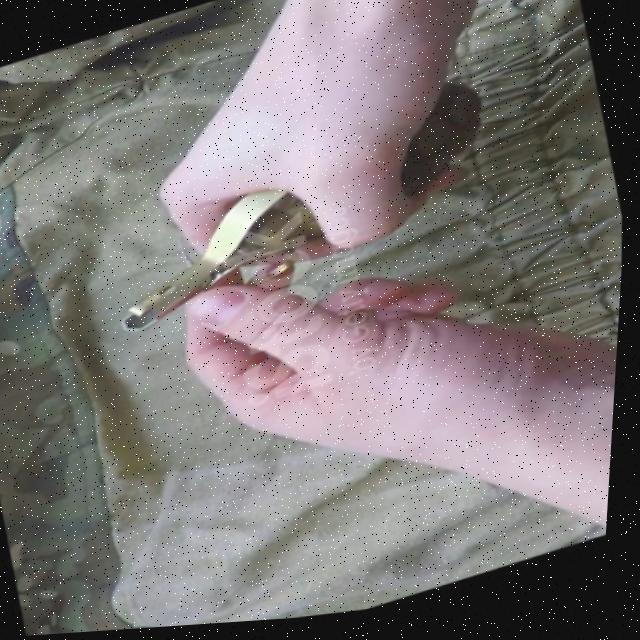grenade: (84, 69, 522, 344)
